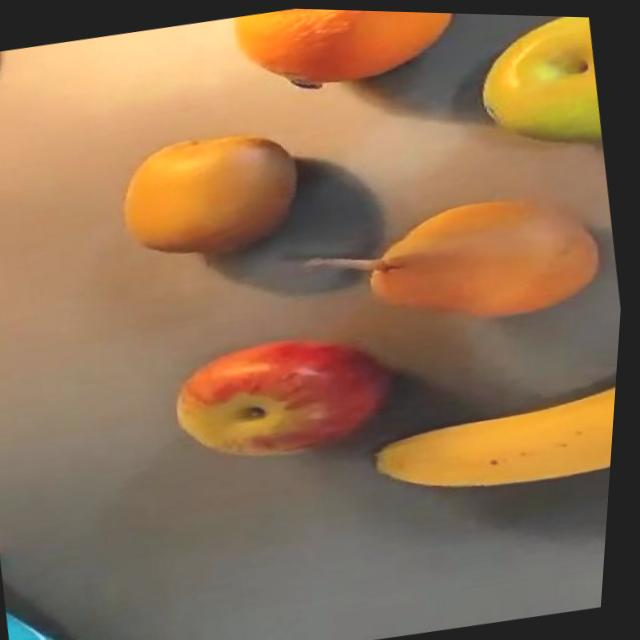Apple: (169, 318, 406, 481), (471, 11, 610, 157)
Banana: (371, 368, 621, 506)
Orange: (224, 5, 470, 106)
